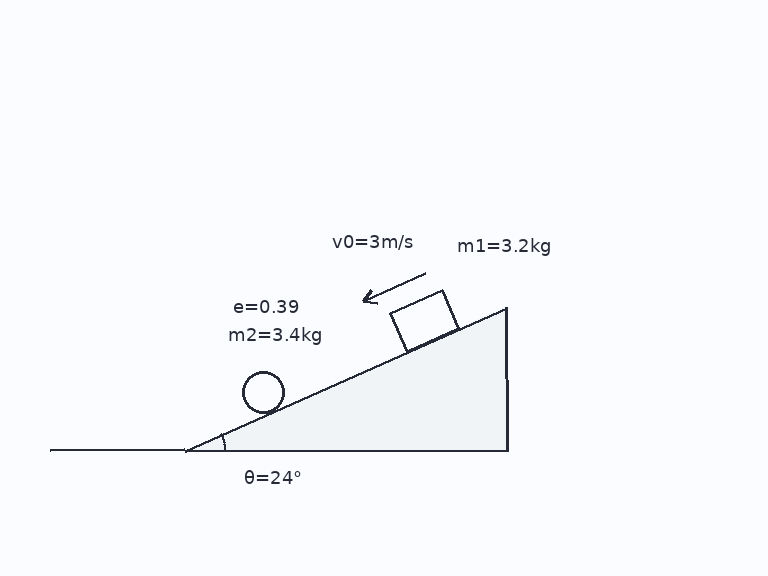ball: (240, 369, 286, 415)
block: (389, 289, 460, 353)
ramp: (183, 305, 509, 452)
